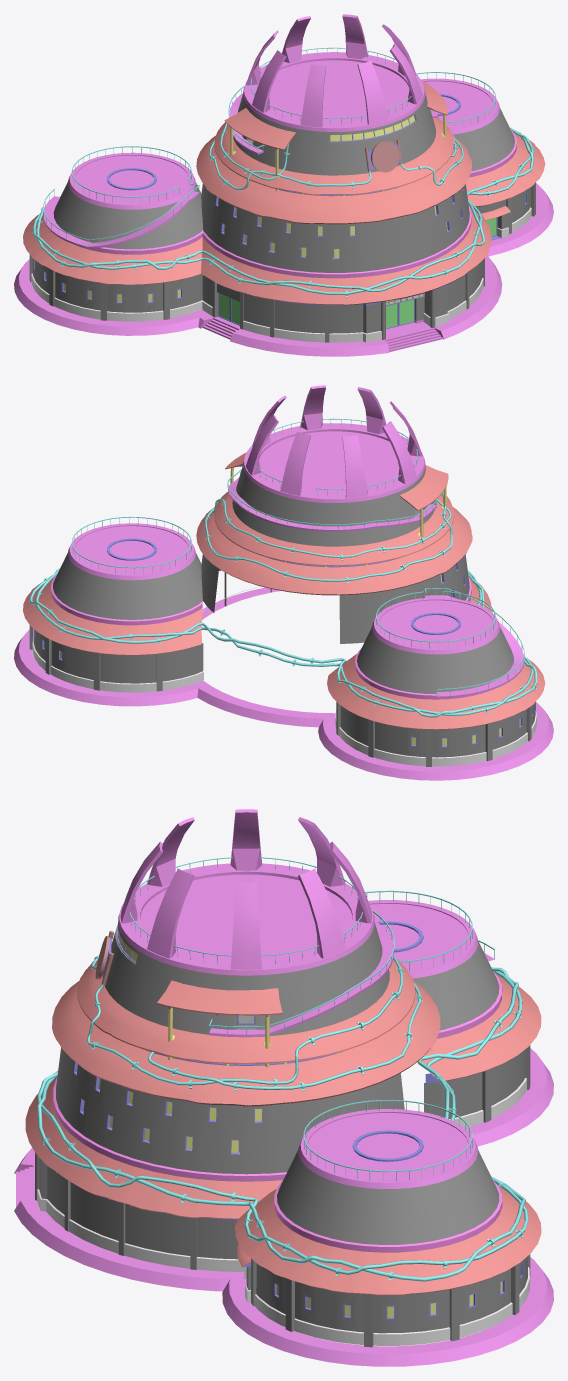
Rendered from SM_ENV_KNVLLG03_AreaD_Hokage_Building.gltf.
3 renders of one model, top to bottom at view 1: azimuth 30°, elevation 25°; view 2: azimuth 150°, elevation 25°; view 3: azimuth 270°, elevation 25°, orthographic. The views are drawn at different scales.
Visible parts, largest first — view 1: SM_ENV_KNVLLG03_AreaD_Hokage_Building; view 2: SM_ENV_KNVLLG03_AreaD_Hokage_Building; view 3: SM_ENV_KNVLLG03_AreaD_Hokage_Building.
Boxes of the visible parts, box(x1,y1,x2,y2) form: SM_ENV_KNVLLG03_AreaD_Hokage_Building: box(14, 14, 553, 356); SM_ENV_KNVLLG03_AreaD_Hokage_Building: box(14, 385, 553, 780); SM_ENV_KNVLLG03_AreaD_Hokage_Building: box(14, 809, 553, 1366).
Bounding box in the file's own units: 72.92 × 33.72 × 47.66.
